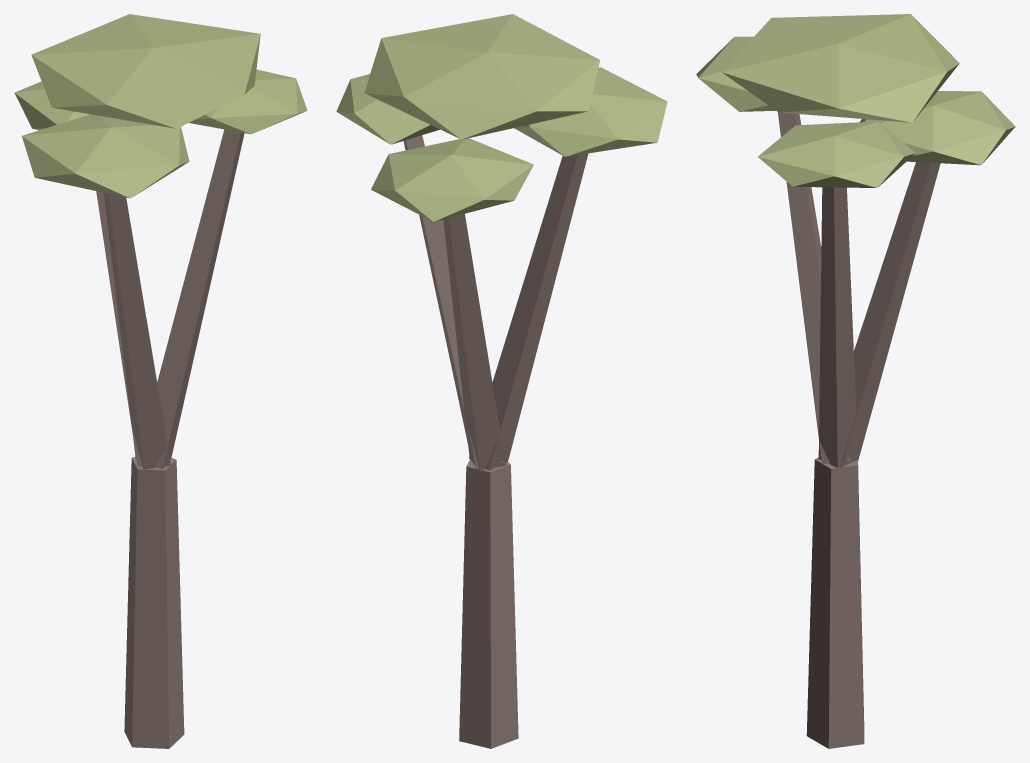
The model's file is arv_acacia_5_sem_textura.glb.
3 views of the same model, side by side, from view 1: azimuth 30°, elevation 25°; view 2: azimuth 150°, elevation 25°; view 3: azimuth 270°, elevation 25° (orthographic).
Parts seen in each view (by area): view 1: arv_acacia_5; view 2: arv_acacia_5; view 3: arv_acacia_5.
Part boxes in pixels (x1,y1,x2,y2): arv_acacia_5: (14, 14, 307, 748); arv_acacia_5: (336, 14, 667, 748); arv_acacia_5: (696, 14, 1015, 748).
Bounding box in the file's own units: 0.8327 × 1.92 × 0.8034.
